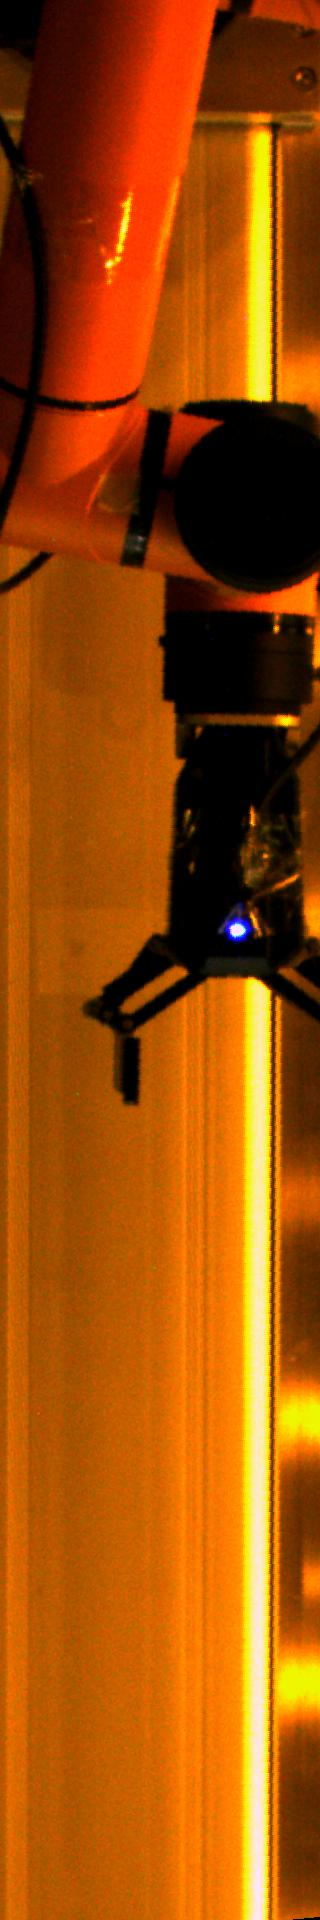keyPoint_1: (223, 913, 253, 943)
